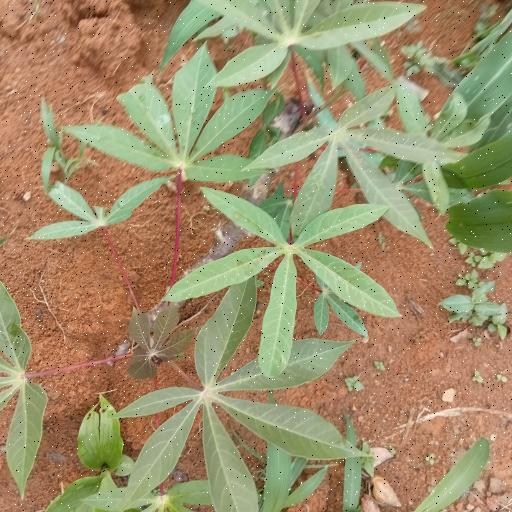Cassava_Mosaic: (127, 291, 346, 494), (182, 183, 396, 364), (197, 0, 416, 81)
